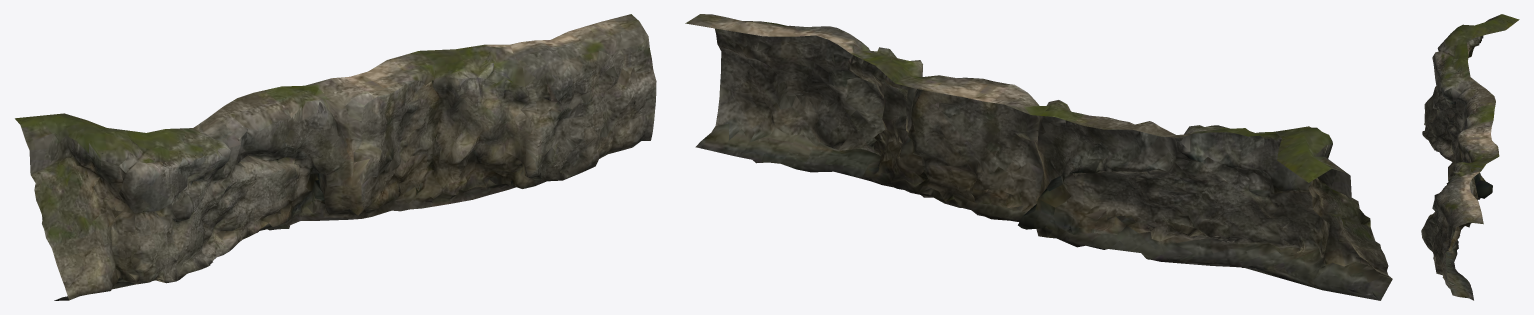
Rendered from ph_cliff_02.glb.
3 views of the same model, side by side, from view 1: azimuth 30°, elevation 25°; view 2: azimuth 150°, elevation 25°; view 3: azimuth 270°, elevation 25° (orthographic). The views are drawn at different scales.
Parts seen in each view (by area): view 1: coastal_cliff_02_LOD0; view 2: coastal_cliff_02_LOD0; view 3: coastal_cliff_02_LOD0.
Part boxes in pixels (x1,y1,x2,y2): coastal_cliff_02_LOD0: (15,14,656,300); coastal_cliff_02_LOD0: (685,14,1392,300); coastal_cliff_02_LOD0: (1421,14,1519,300).
Bounding box in the file's own units: 40.9 × 10.02 × 8.68.
1 material, 1 textured.
